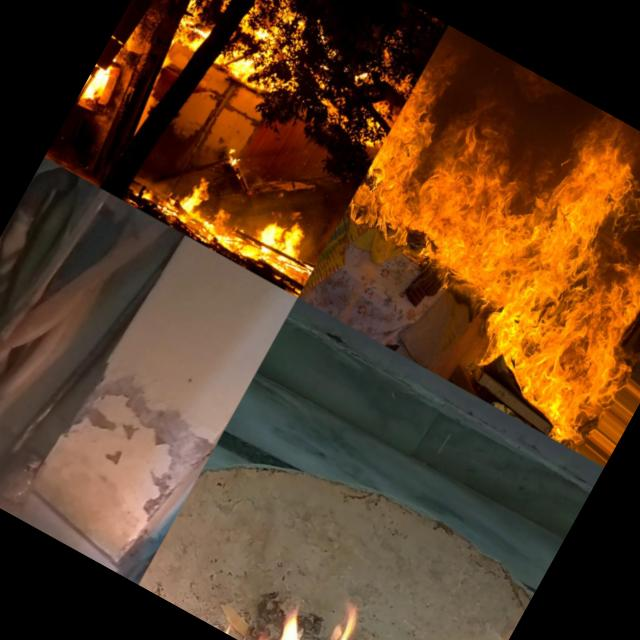fire: (323, 26, 640, 415), (215, 516, 507, 640), (156, 152, 335, 298), (76, 0, 179, 116)
